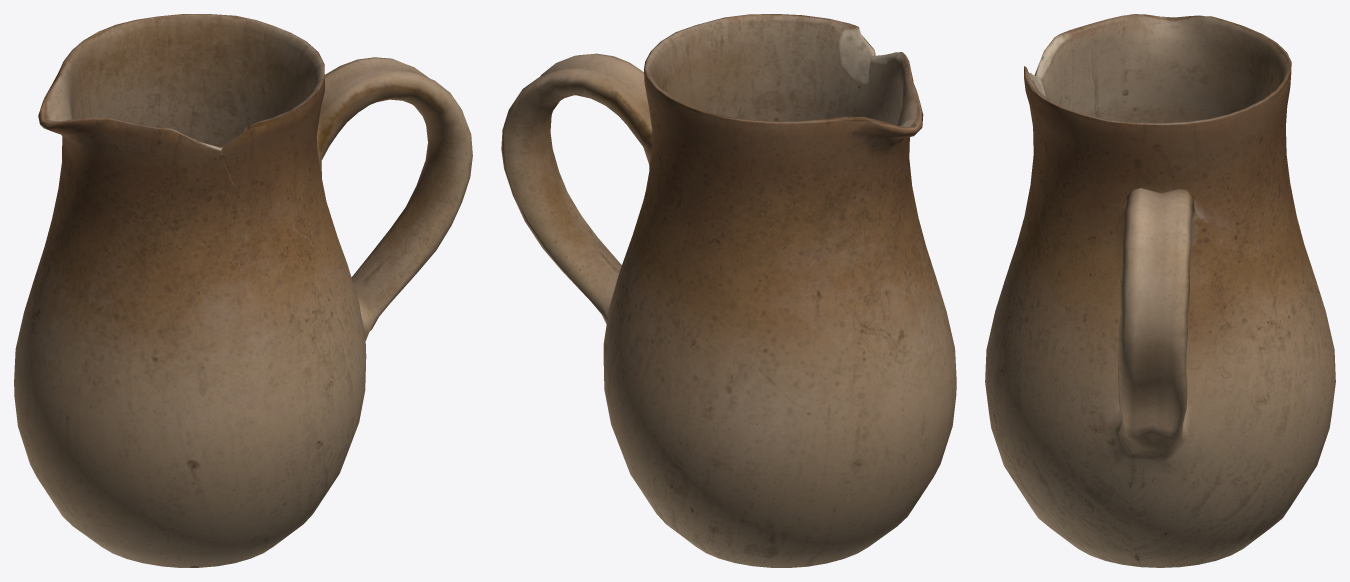
Rendered from obj_clay_pot_low_poly_game_ready_f68f43.glb.
The picture shows the model from 3 angles, left to right: view 1: azimuth 30°, elevation 25°; view 2: azimuth 150°, elevation 25°; view 3: azimuth 270°, elevation 25°; orthographic projection.
Visible parts, largest first — view 1: obj_clay_pot_low_poly_game_ready_f68f43; view 2: obj_clay_pot_low_poly_game_ready_f68f43; view 3: obj_clay_pot_low_poly_game_ready_f68f43.
Boxes of the visible parts, x1,y1,x2,y2 form: obj_clay_pot_low_poly_game_ready_f68f43: (14,14,472,567); obj_clay_pot_low_poly_game_ready_f68f43: (501,14,956,567); obj_clay_pot_low_poly_game_ready_f68f43: (985,14,1335,567).
Bounding box in the file's own units: 0.096 × 0.1 × 0.0682.
1 material, 1 textured.
